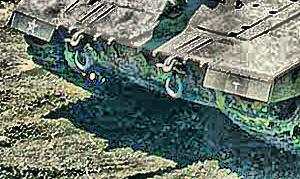tanks: (10, 1, 300, 156)
